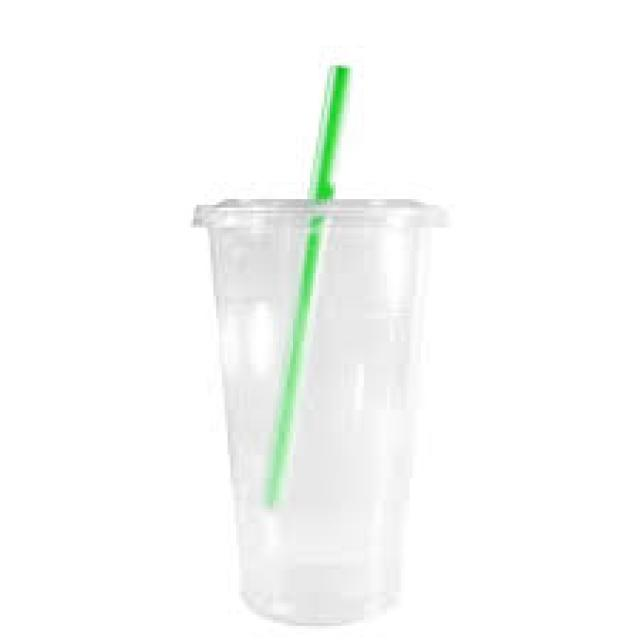cup: (182, 159, 478, 640)
